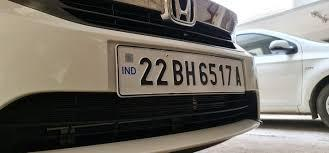licence_plate: (116, 47, 253, 93)
